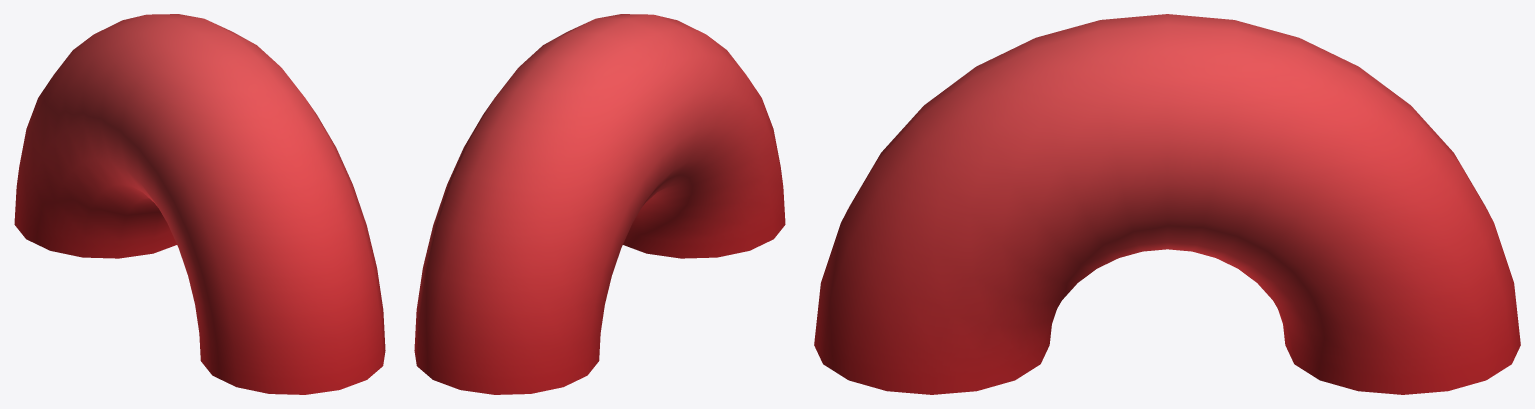
The model's file is pipe_180_A_red.glb.
The picture shows the model from 3 angles, left to right: view 1: azimuth 30°, elevation 25°; view 2: azimuth 150°, elevation 25°; view 3: azimuth 270°, elevation 25°; orthographic projection. The views are drawn at different scales.
Visible parts, largest first — view 1: pipe_180_A_red; view 2: pipe_180_A_red; view 3: pipe_180_A_red.
Boxes of the visible parts, left/top/right/bottom form: pipe_180_A_red: left=14, top=14, right=385, bottom=394; pipe_180_A_red: left=414, top=14, right=785, bottom=394; pipe_180_A_red: left=814, top=14, right=1520, bottom=394.
Size of the model in its own units: 2 by 3 by 6.
1 material, 1 textured.
